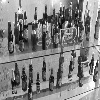beer: (6, 21, 16, 53)
